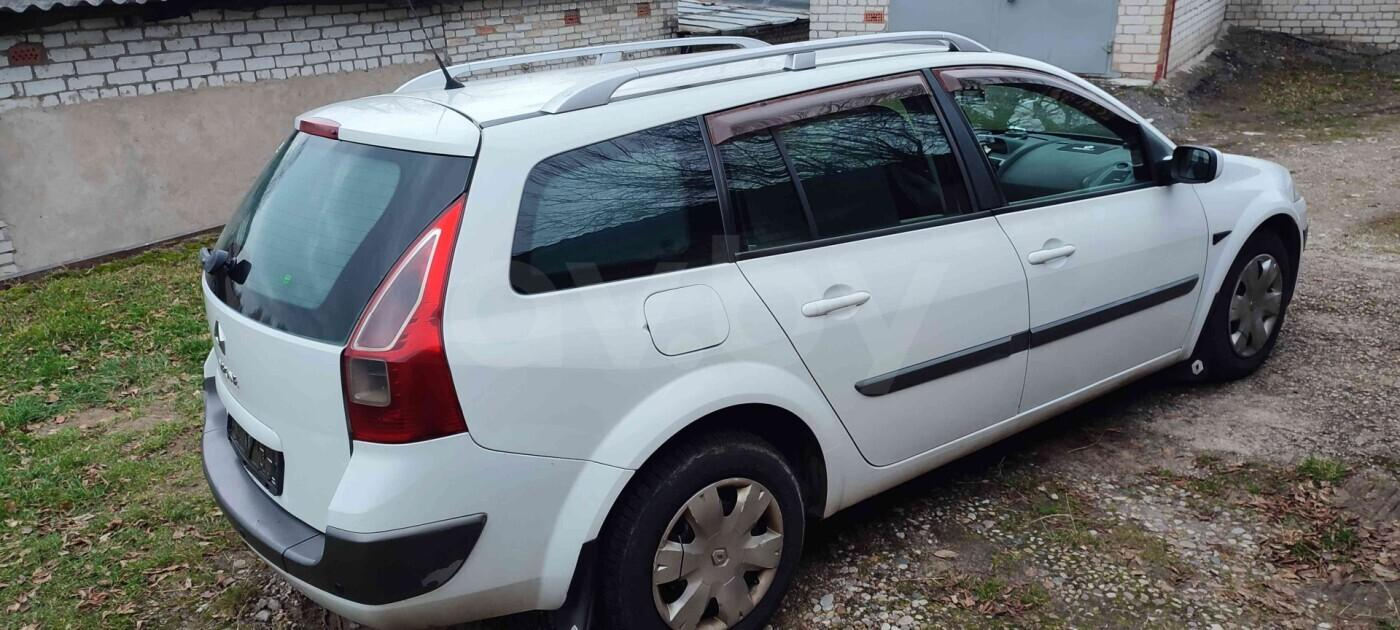Megane_2005-2009: (189, 31, 1307, 630)
